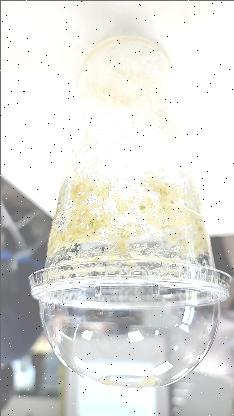Others: (27, 32, 232, 390), (28, 258, 230, 388)
